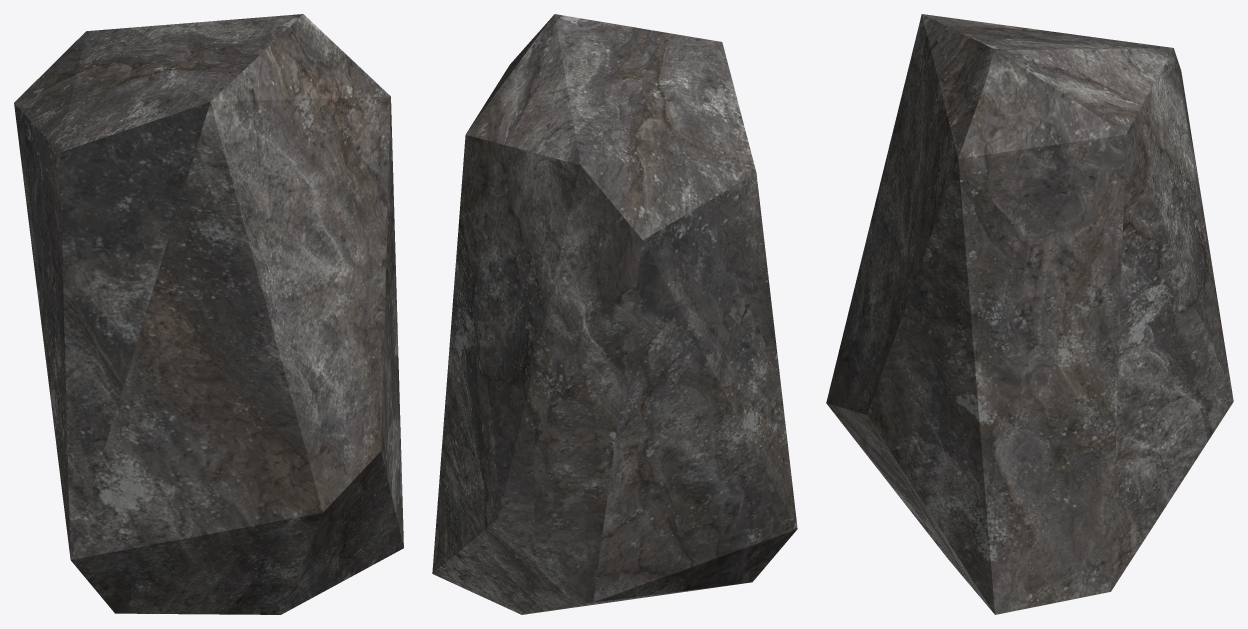
Rendered from LampLight_AltRock_5.FBX.
3 renders of one model, left to right at view 1: azimuth 30°, elevation 25°; view 2: azimuth 150°, elevation 25°; view 3: azimuth 270°, elevation 25°, orthographic. The views are drawn at different scales.
Visible parts, largest first — view 1: Bg_Rock_11; view 2: Bg_Rock_11; view 3: Bg_Rock_11.
Boxes of the visible parts, x1,y1,x2,y2 form: Bg_Rock_11: [14, 14, 403, 614]; Bg_Rock_11: [432, 14, 797, 614]; Bg_Rock_11: [826, 14, 1233, 614].
Size of the model in its own units: 78.38 by 126 by 86.97.
